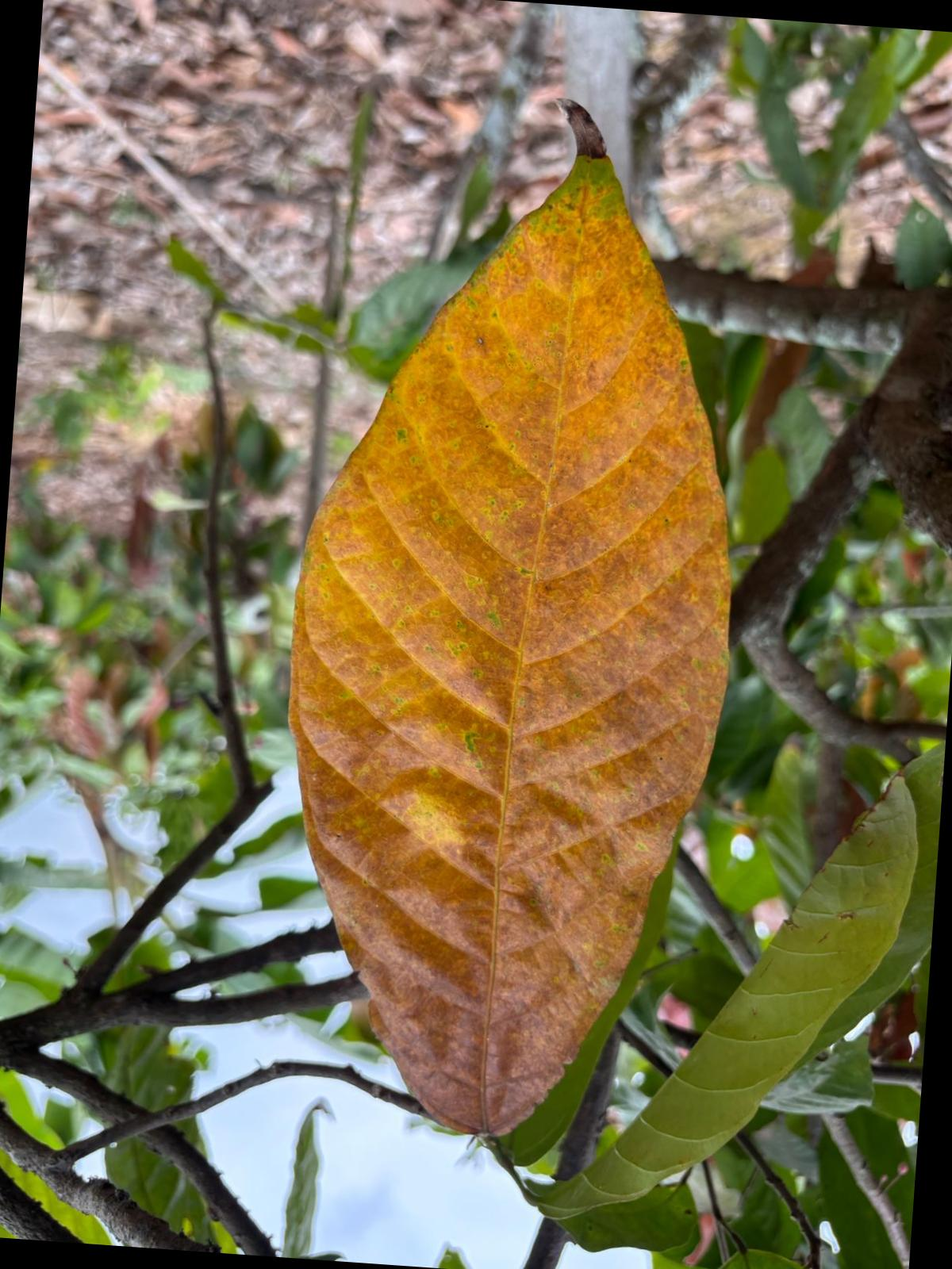Fosforo: (290, 109, 730, 1134)
